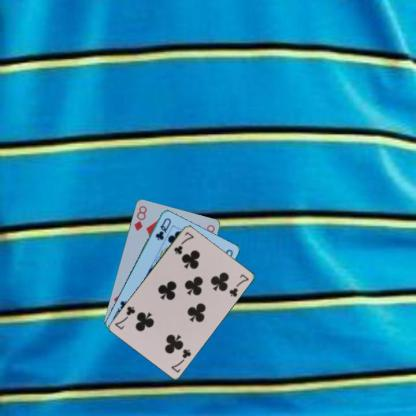7c: (169, 346, 192, 374), (171, 229, 195, 255)
8d: (131, 203, 148, 232)
Qc: (153, 215, 172, 241)
